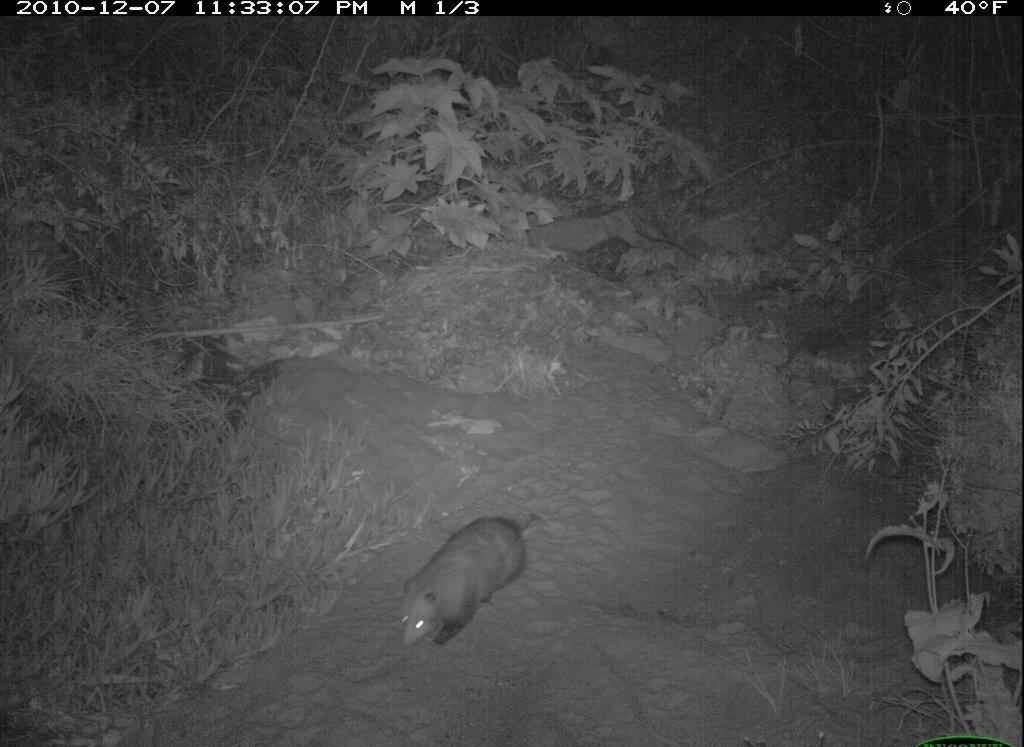opossum: (387, 493, 547, 658)
